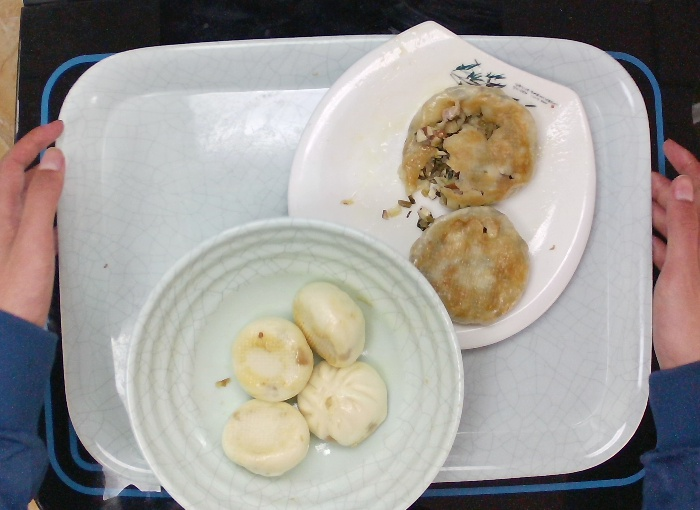JYsf-Da_Tang_Wan: (118, 214, 466, 510)
JYsf-Mian_Pan: (279, 13, 603, 363)
